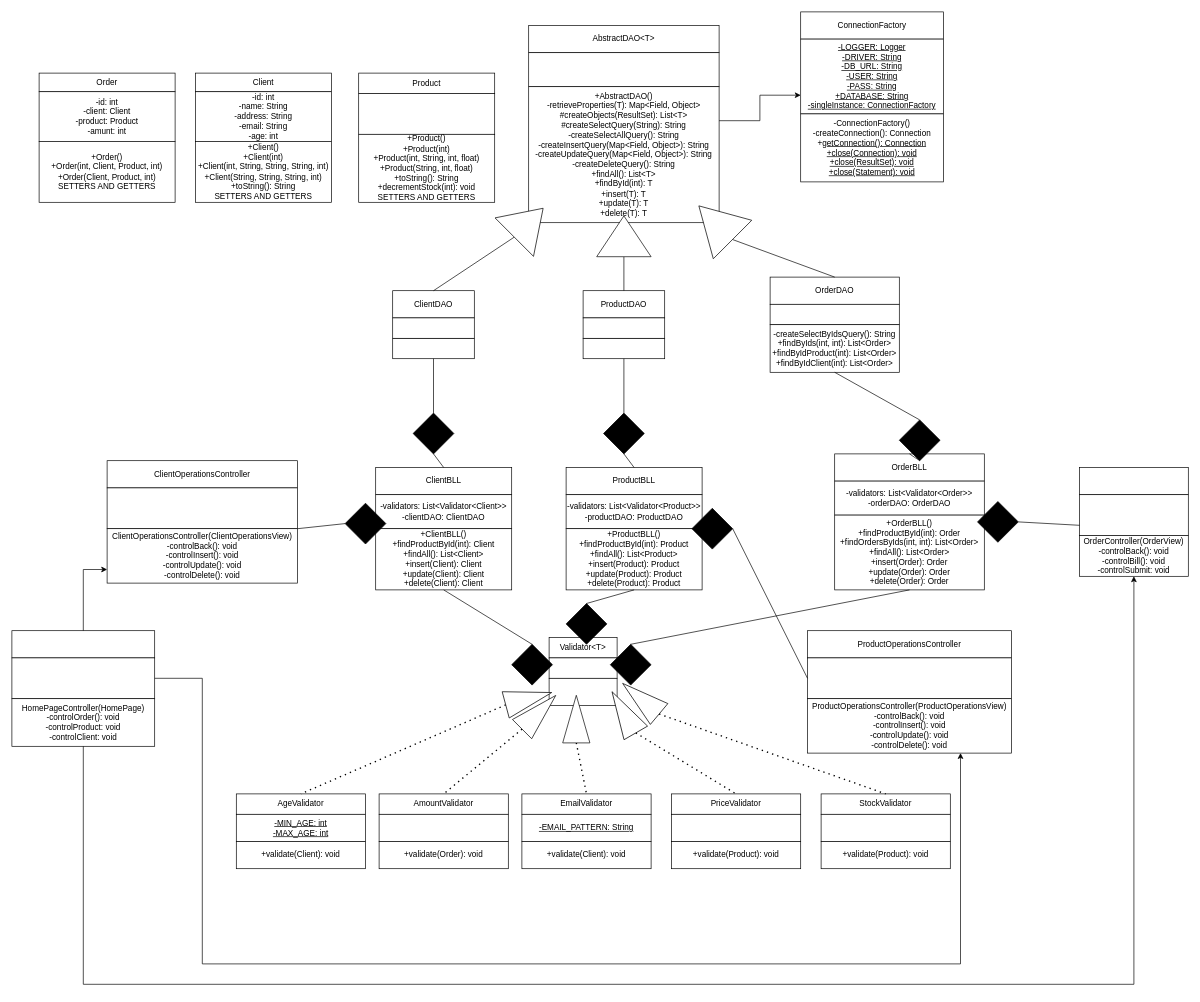
This 1200x1002 diagram has some shape labels left out. Each missing label, with the centre of its shape:
"# LOGGER: Logger -TYPE: Class<T>" belongs at [623,69].
"# LOGGER: Logger -view: ClientOperationsView -clientBLL: ClientBLL" belongs at [202,508].
"# LOGGER: Logger -view: OrderView -orderBLL: OrderBLL -orders: ArrayList<Order>" belongs at [1133,515].
"# LOGGER: Logger -view: ProductOperationsView -productBLL: ProductBLL" belongs at [909,678].
"+validate(T): void" belongs at [582,692].
"-id: int -name: String -stock: int -price: float" belongs at [426,113].
"-view: HomePage" belongs at [83,678].
"HomePageController" belongs at [83,644].
"OrderController" belongs at [1133,481].
